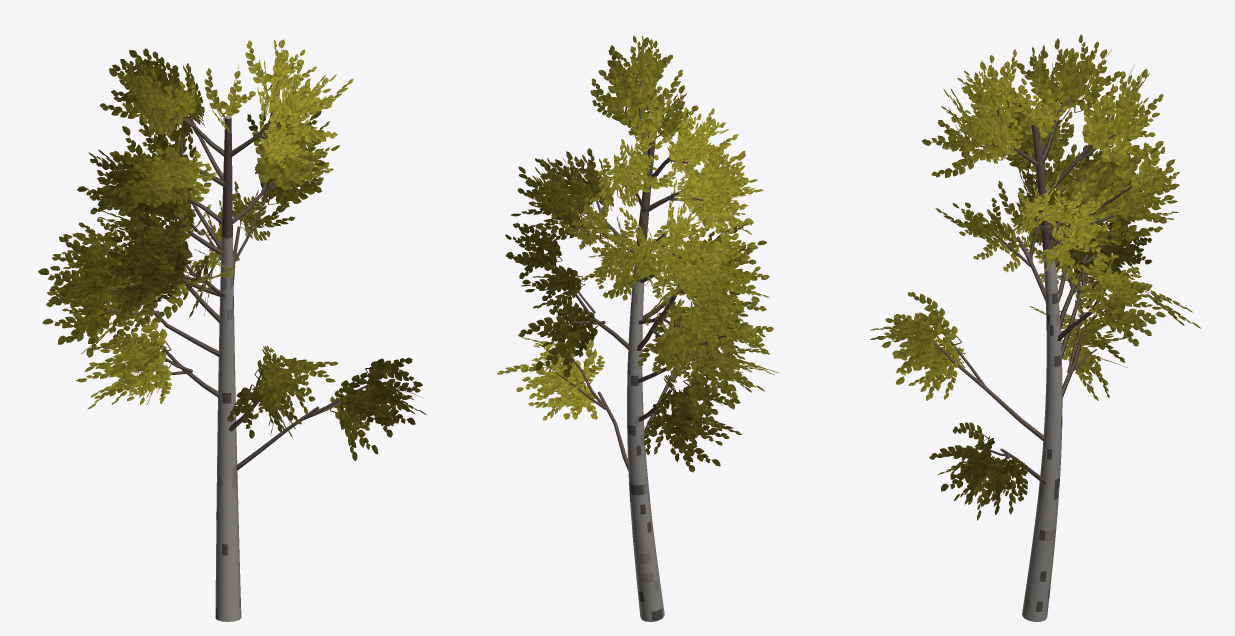
The model's file is birch_2_burnt1.glb.
The picture shows the model from 3 angles, left to right: view 1: azimuth 30°, elevation 25°; view 2: azimuth 150°, elevation 25°; view 3: azimuth 270°, elevation 25°; orthographic projection. The views are drawn at different scales.
Visible parts, largest first — view 1: birch_2_burnt1; view 2: birch_2_burnt1; view 3: birch_2_burnt1.
Part boxes in pixels (x1=…): birch_2_burnt1: x1=38, y1=39, x2=426, y2=621; birch_2_burnt1: x1=497, y1=35, x2=778, y2=621; birch_2_burnt1: x1=870, y1=34, x2=1200, y2=621.
Size of the model in its own units: 6.68 by 10.4 by 6.
5 materials, 1 textured.
